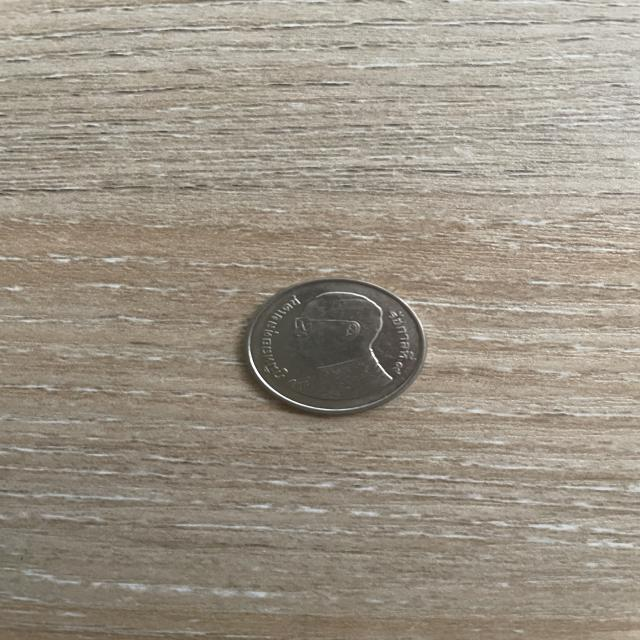1 Bath: (232, 273, 436, 423)
